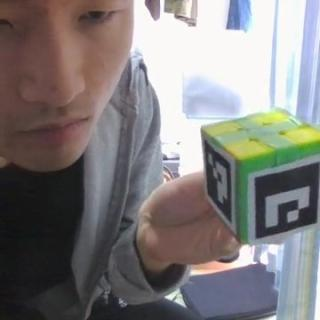armor: (247, 153, 320, 243), (201, 136, 235, 232)
robot: (199, 108, 320, 244)
